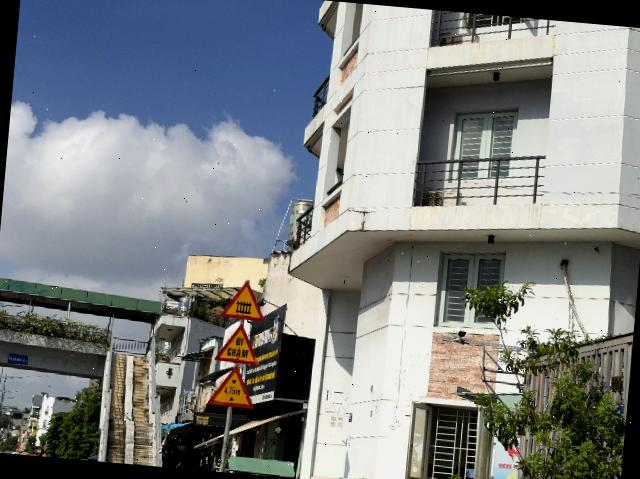chieu-cao-tinh-khong-thuc-te: (208, 362, 258, 408)
di-cham: (214, 322, 262, 366)
noi-giao-nhau-voi-duong-sat-co-rao-chan: (220, 278, 268, 322)
